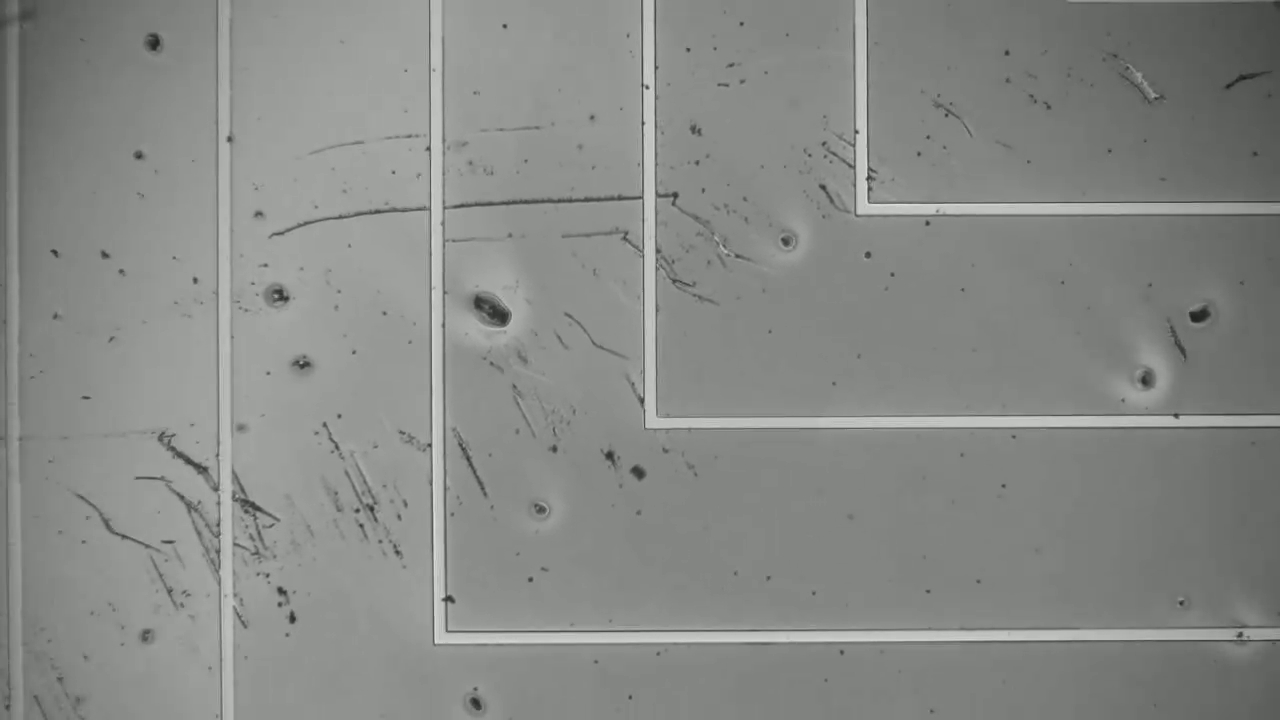scratch: (251, 179, 677, 224)
stains_enbedded: (323, 430, 402, 564), (81, 496, 162, 569), (310, 109, 412, 163), (458, 432, 501, 519), (566, 312, 630, 367), (508, 380, 542, 443), (565, 218, 622, 247), (1230, 619, 1254, 649)
